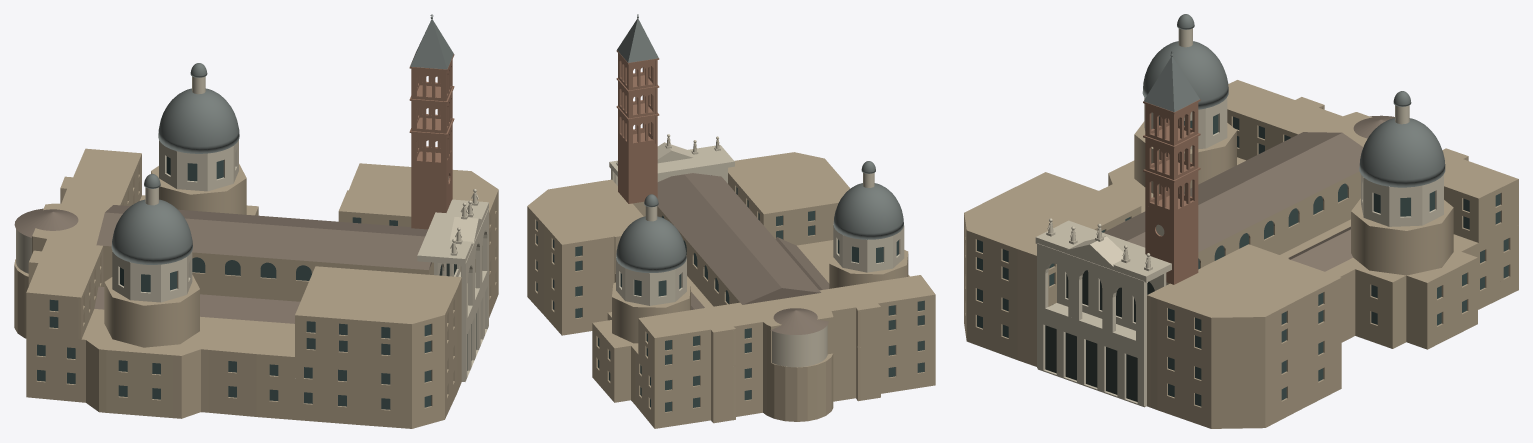
File: santa-maria-maggiore-near.glb
The picture shows the model from 3 angles, left to right: view 1: azimuth 30°, elevation 25°; view 2: azimuth 150°, elevation 25°; view 3: azimuth 270°, elevation 25°; orthographic projection. The views are drawn at different scales.
Parts seen in each view (by area): view 1: santa-maria-maggiore-0-masonry, santa-maria-maggiore-0-roof, santa-maria-maggiore-0-stone, santa-maria-maggiore-0-metal, santa-maria-maggiore-0-brick, santa-maria-maggiore-0-glass; view 2: santa-maria-maggiore-0-masonry, santa-maria-maggiore-0-roof, santa-maria-maggiore-0-stone, santa-maria-maggiore-0-metal, santa-maria-maggiore-0-brick, santa-maria-maggiore-0-glass; view 3: santa-maria-maggiore-0-masonry, santa-maria-maggiore-0-stone, santa-maria-maggiore-0-roof, santa-maria-maggiore-0-metal, santa-maria-maggiore-0-brick, santa-maria-maggiore-0-glass, santa-maria-maggiore-0-shadow.
Part boxes in pixels (bbox=[...]): santa-maria-maggiore-0-masonry: bbox=[14, 148, 498, 428]; santa-maria-maggiore-0-roof: bbox=[14, 205, 431, 323]; santa-maria-maggiore-0-stone: bbox=[16, 76, 488, 381]; santa-maria-maggiore-0-metal: bbox=[111, 14, 453, 264]; santa-maria-maggiore-0-brick: bbox=[409, 51, 454, 229]; santa-maria-maggiore-0-glass: bbox=[37, 156, 431, 409]; santa-maria-maggiore-0-masonry: bbox=[527, 152, 935, 428]; santa-maria-maggiore-0-roof: bbox=[657, 173, 829, 334]; santa-maria-maggiore-0-stone: bbox=[609, 134, 904, 367]; santa-maria-maggiore-0-metal: bbox=[616, 14, 903, 272]; santa-maria-maggiore-0-brick: bbox=[616, 50, 659, 203]; santa-maria-maggiore-0-glass: bbox=[536, 187, 924, 411]; santa-maria-maggiore-0-masonry: bbox=[964, 80, 1518, 428]; santa-maria-maggiore-0-stone: bbox=[1035, 28, 1443, 407]; santa-maria-maggiore-0-roof: bbox=[1103, 115, 1394, 271]; santa-maria-maggiore-0-metal: bbox=[1142, 14, 1445, 187]; santa-maria-maggiore-0-brick: bbox=[1143, 99, 1200, 284]; santa-maria-maggiore-0-glass: bbox=[977, 114, 1508, 406]; santa-maria-maggiore-0-shadow: bbox=[1045, 270, 1154, 401].
Bounding box in the file's own units: 115 × 75 × 113.
